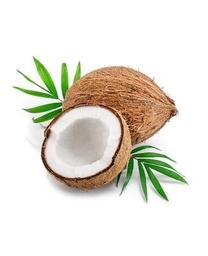coconut: (61, 66, 175, 147), (41, 102, 134, 191)
